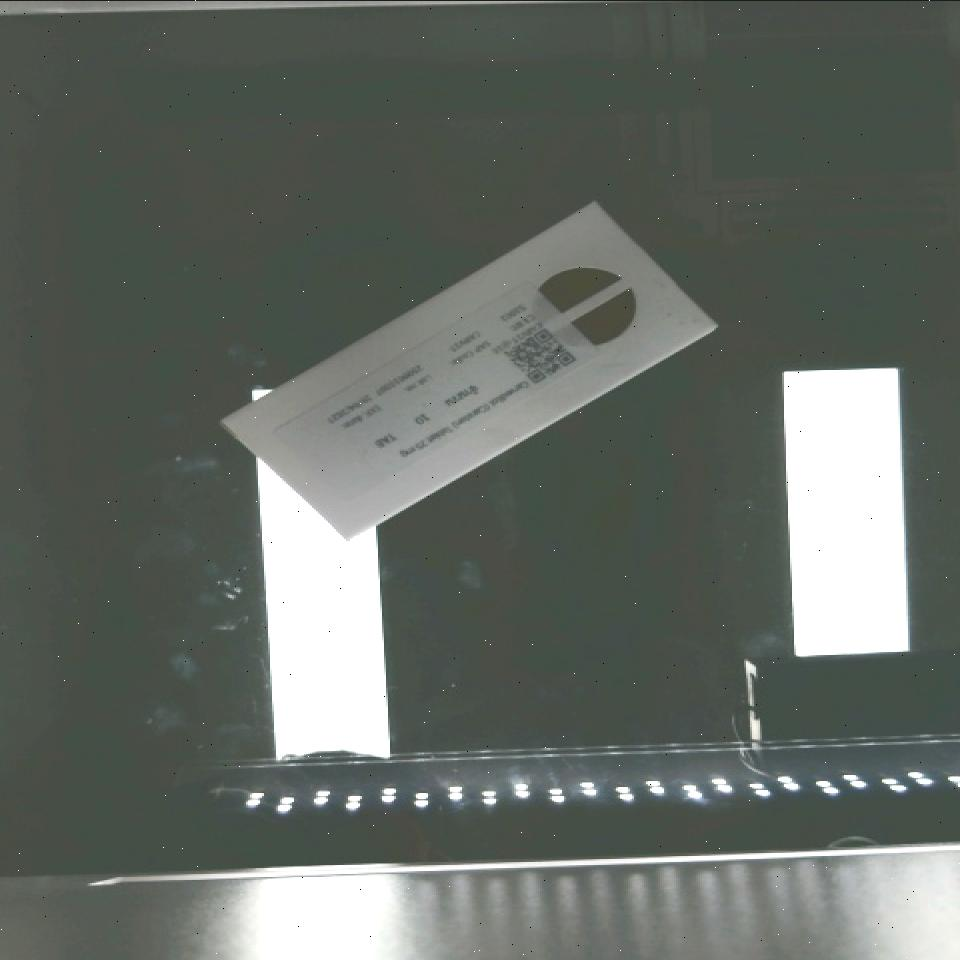medicine_box: (223, 175, 716, 570)
qr_code: (494, 307, 587, 396)
